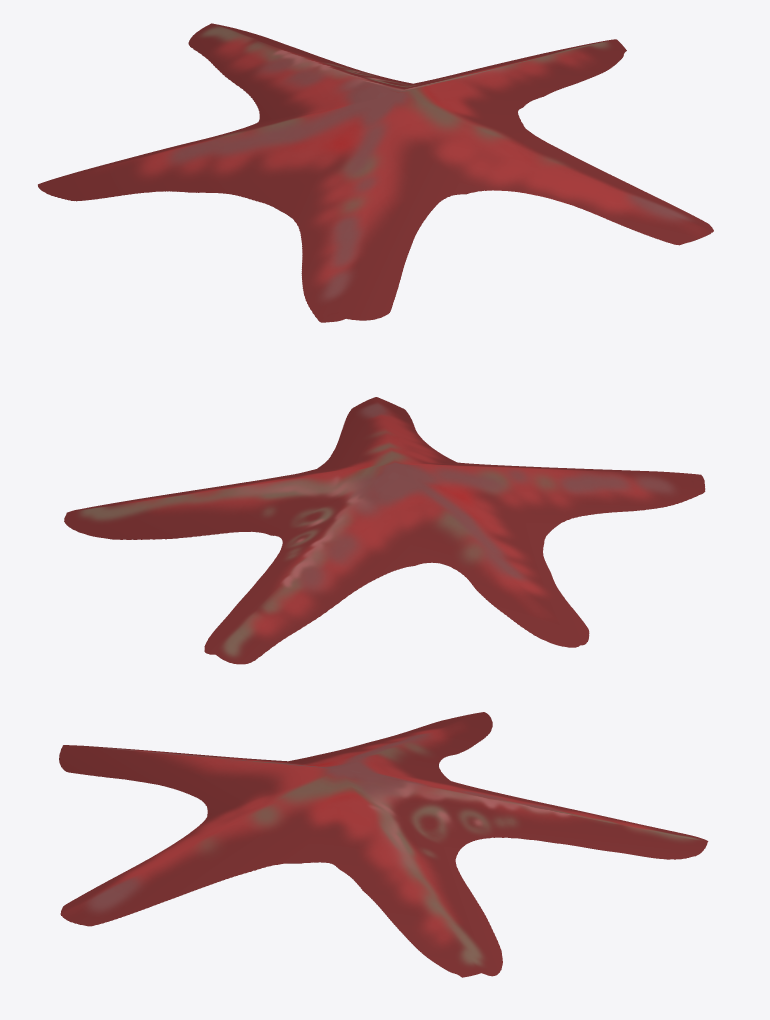
The model's file is StarFish.fbx.
The picture shows the model from 3 angles, top to bottom: view 1: azimuth 30°, elevation 25°; view 2: azimuth 150°, elevation 25°; view 3: azimuth 270°, elevation 25°; orthographic projection. The views are drawn at different scales.
Visible parts, largest first — view 1: Cylinder.007; view 2: Cylinder.007; view 3: Cylinder.007.
Part boxes in pixels (bbox=[...]): Cylinder.007: bbox=[38, 23, 713, 322]; Cylinder.007: bbox=[64, 397, 705, 664]; Cylinder.007: bbox=[59, 712, 708, 977].
Bounding box in the file's own units: 171 × 21.03 × 180.
